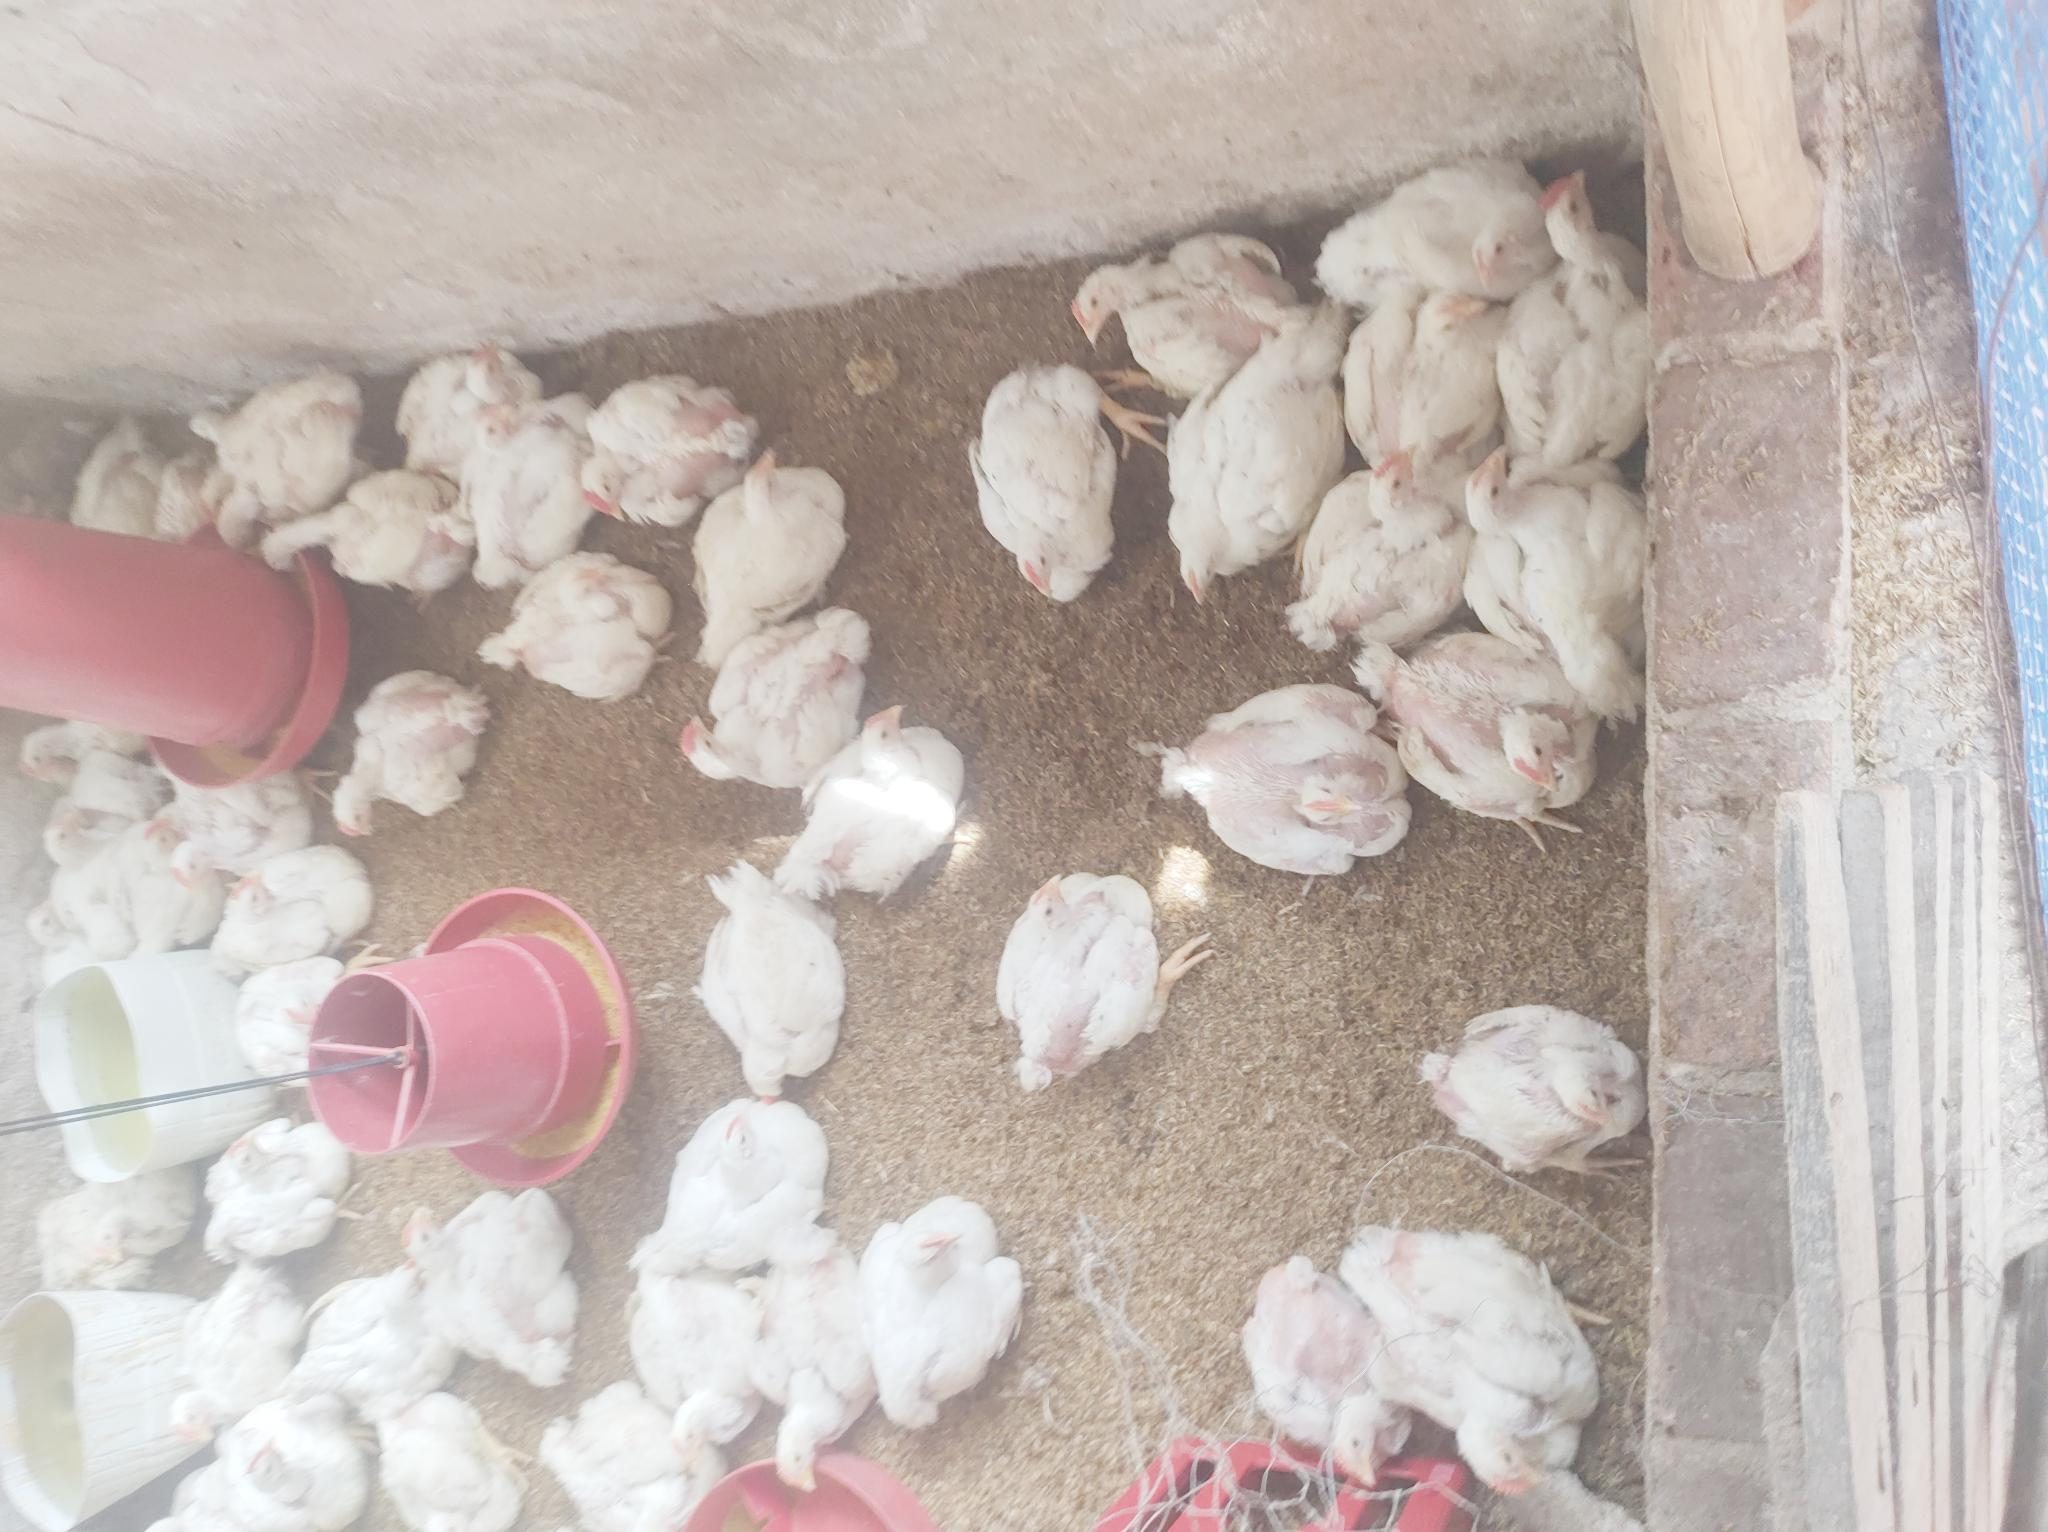Pollos: (1363, 1205, 1598, 1489), (1458, 451, 1646, 742), (1491, 161, 1652, 480), (1165, 312, 1335, 612), (1377, 628, 1606, 843), (1158, 689, 1404, 877), (997, 871, 1168, 1136), (1400, 1001, 1652, 1176), (1229, 1257, 1409, 1485), (685, 591, 886, 784), (1313, 142, 1538, 312), (695, 439, 859, 665), (689, 867, 849, 1094), (634, 1093, 825, 1283), (1060, 222, 1298, 370), (782, 702, 967, 890), (396, 1183, 565, 1389), (977, 352, 1121, 587), (238, 470, 470, 615), (1303, 296, 1495, 470), (470, 549, 681, 706), (866, 1199, 1007, 1418), (750, 1260, 880, 1495), (315, 673, 497, 840), (1289, 463, 1451, 642), (182, 1384, 376, 1532), (460, 389, 603, 591), (578, 377, 750, 541), (191, 364, 365, 526), (352, 1378, 528, 1532), (140, 1257, 298, 1424), (560, 1361, 705, 1529), (195, 1125, 349, 1273), (56, 410, 211, 554), (208, 846, 368, 983), (31, 1173, 183, 1310), (631, 1273, 745, 1435), (224, 954, 359, 1089), (393, 343, 533, 467), (294, 1263, 433, 1381), (150, 769, 312, 867), (122, 838, 233, 966), (48, 811, 146, 912), (14, 706, 179, 763), (14, 895, 108, 978)
